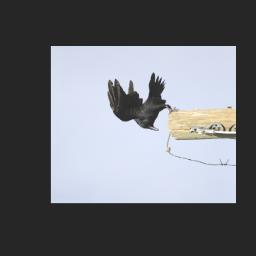Crow: (102, 69, 182, 132)
